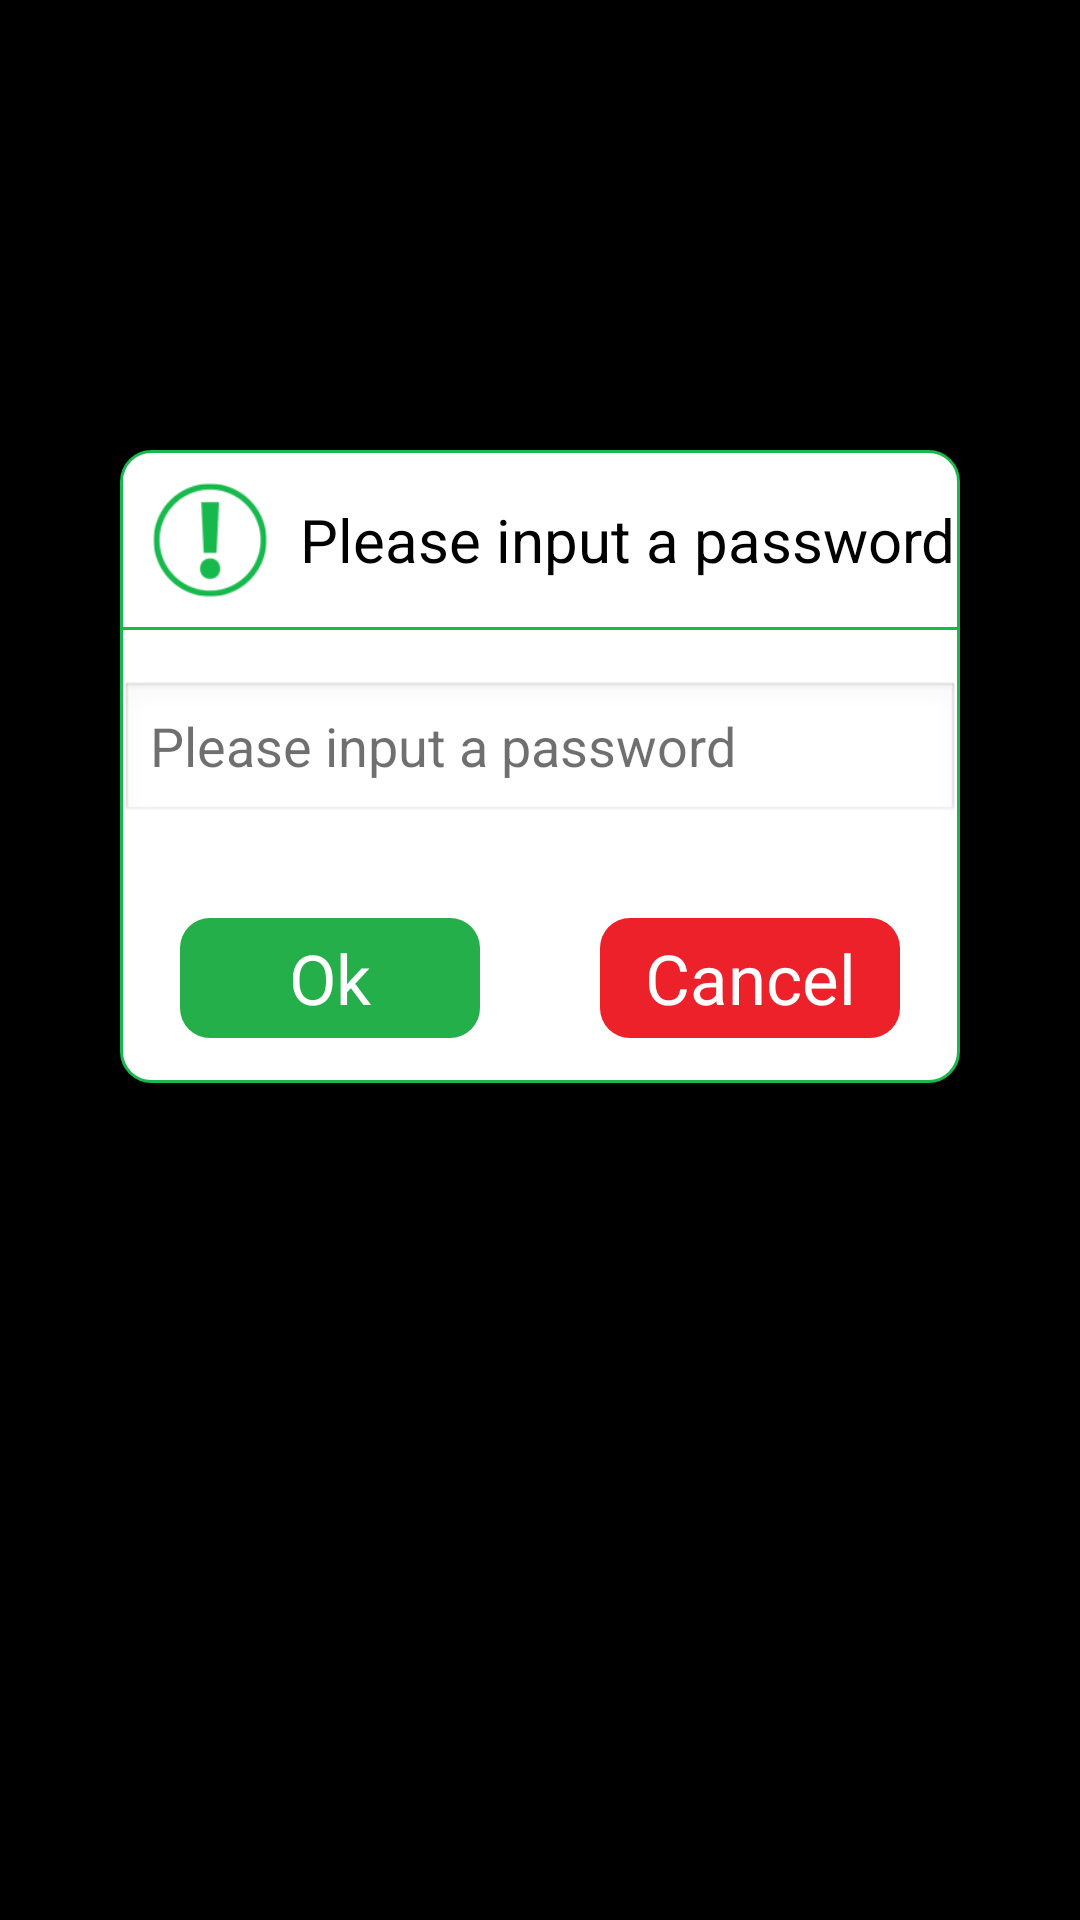

Icon click points for this 1080px x 1920px phone screenshot, format [x,y]:
gantanhao: [210,540]
